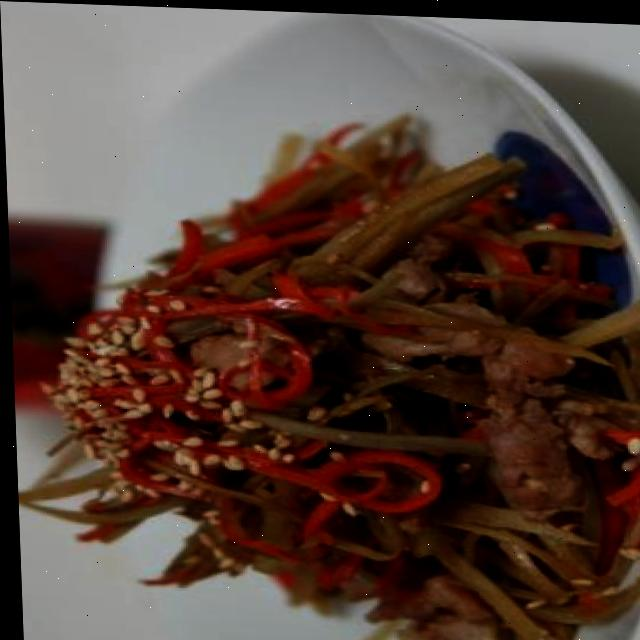蔬菜料理: (19, 35, 640, 640)
